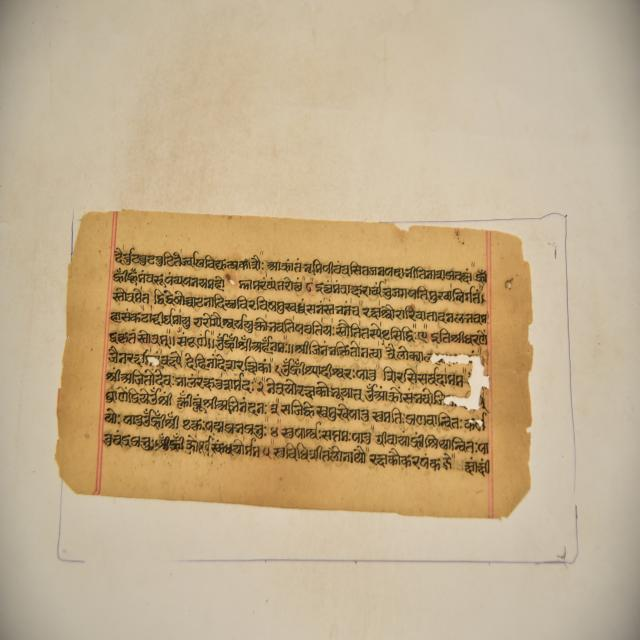text_paragraph: (62, 211, 526, 523)
